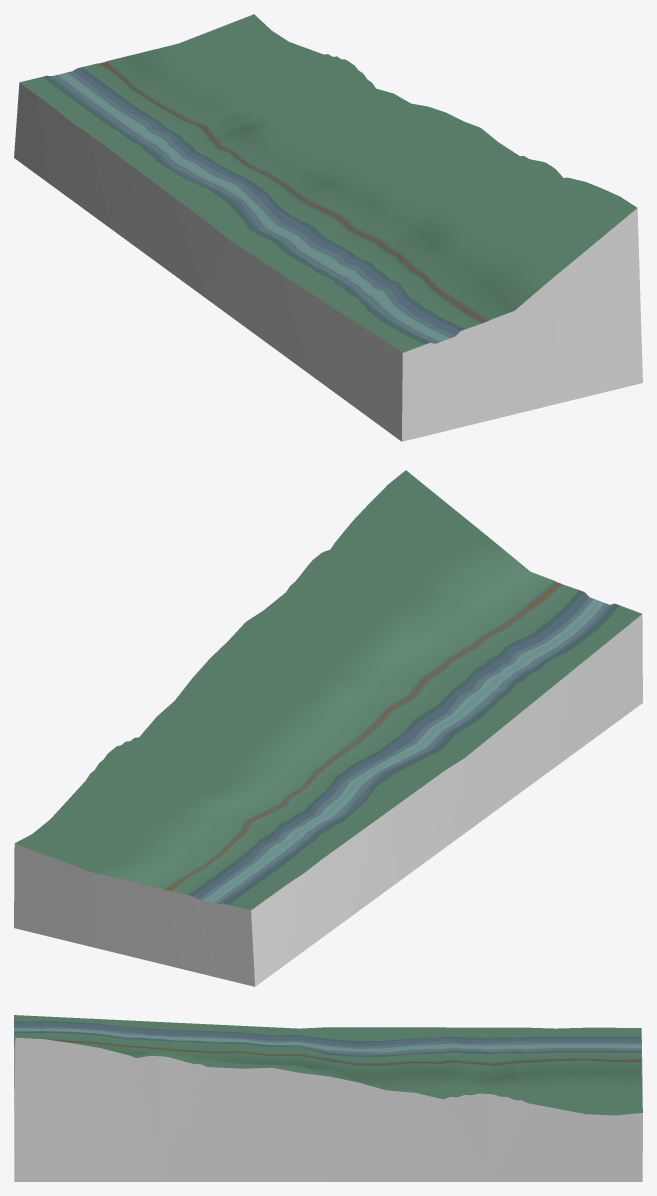
File: ground01.fbx
3 renders of one model, top to bottom at view 1: azimuth 30°, elevation 25°; view 2: azimuth 150°, elevation 25°; view 3: azimuth 270°, elevation 25°, orthographic. The views are drawn at different scales.
Visible parts, largest first — view 1: pCube4; view 2: pCube4; view 3: pCube4.
Part boxes in pixels (left/top/right/bottom): pCube4: left=14, top=14, right=642, bottom=441; pCube4: left=14, top=470, right=642, bottom=986; pCube4: left=14, top=1015, right=642, bottom=1181.
Size of the model in its own units: 1070 by 745 by 2983.
